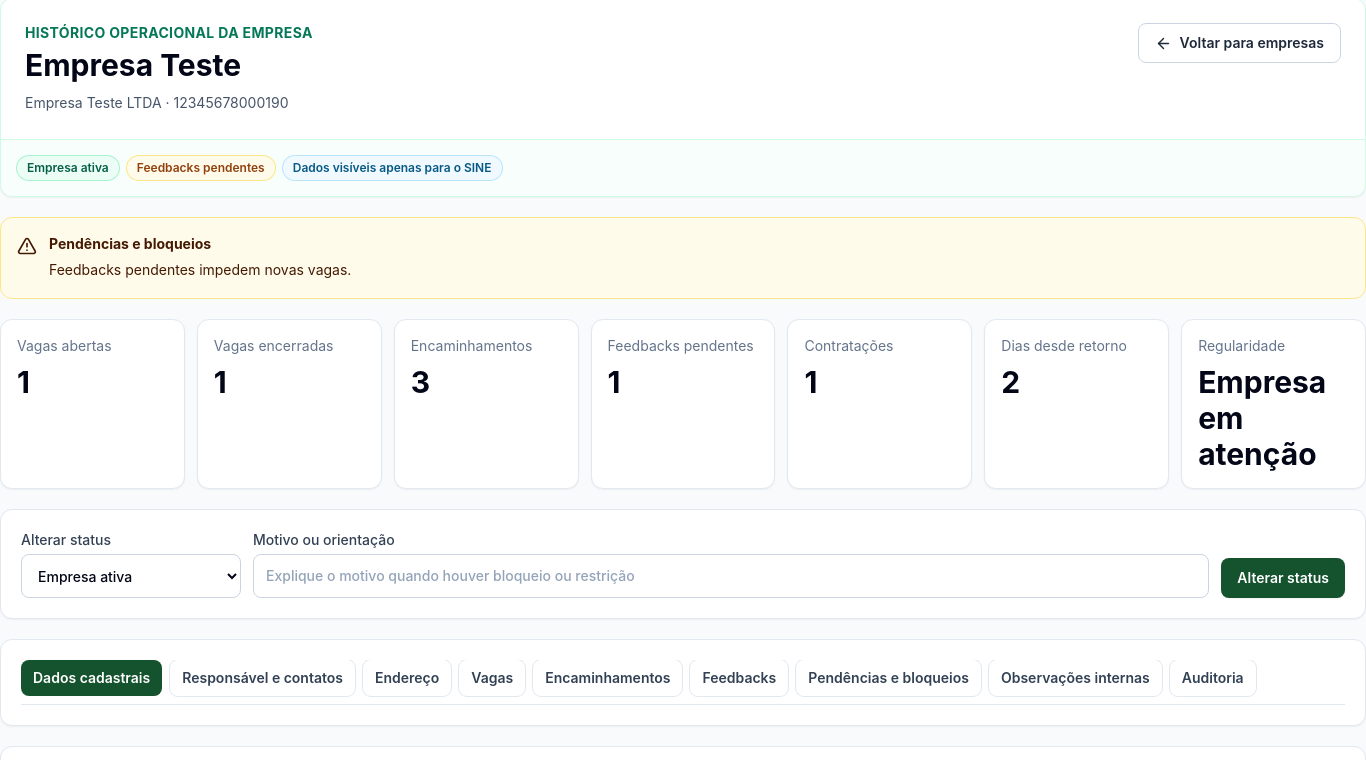
Test case: Módulo administrativo de empresas › detalhe mostra dados, vagas, feedbacks, observações internas e auditoria sem status técnico cru
This screenshot has width=1366, height=760.
Expected: the text "Empresa Teste LTDA · 12345678000190" is shown, left=25, top=91, right=313, bottom=115
Expected: the text "Feedbacks pendentes impedem novas vagas." is shown, left=49, top=258, right=351, bottom=282
Step 1. Click the tab "Responsável e contatos" → [263, 678], box left=170, top=660, right=355, bottom=696
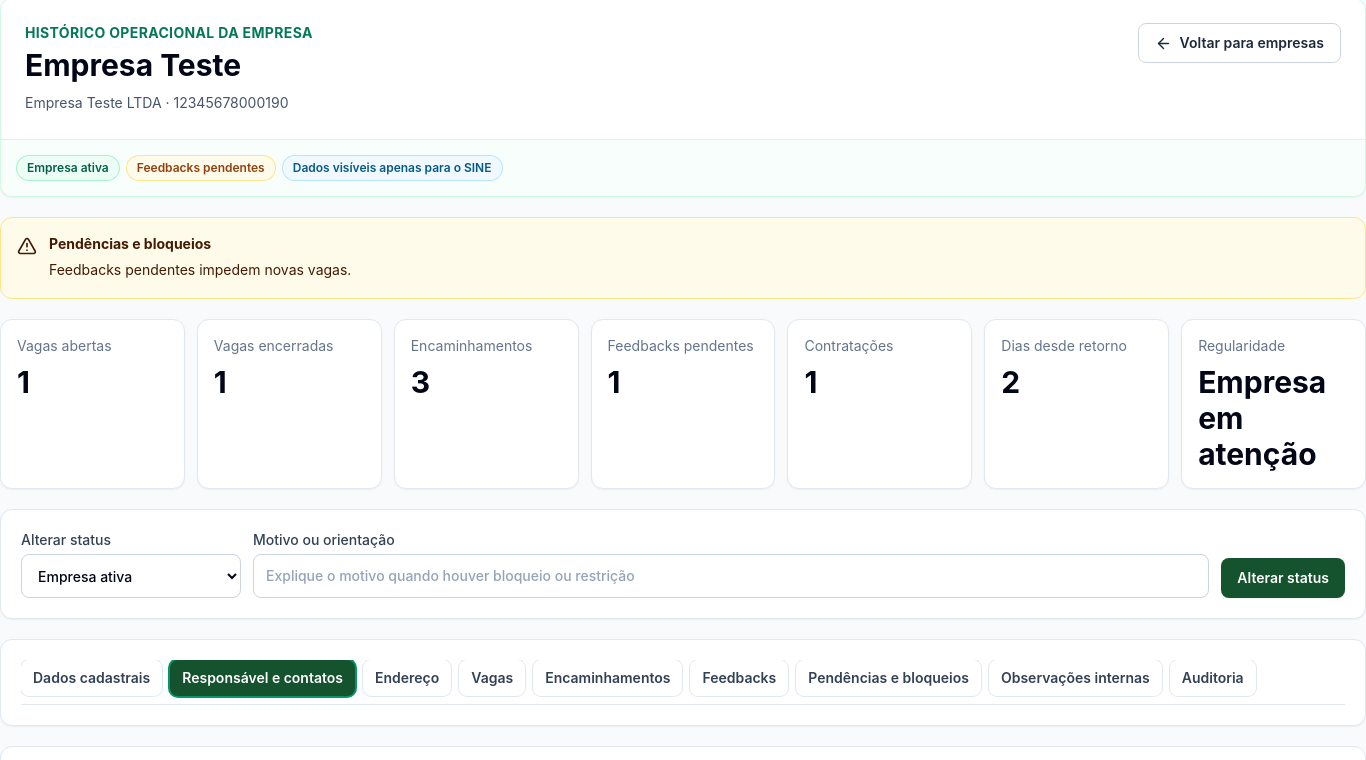
Step 2. Click the tab "Vagas" → [492, 678], box left=459, top=660, right=525, bottom=696
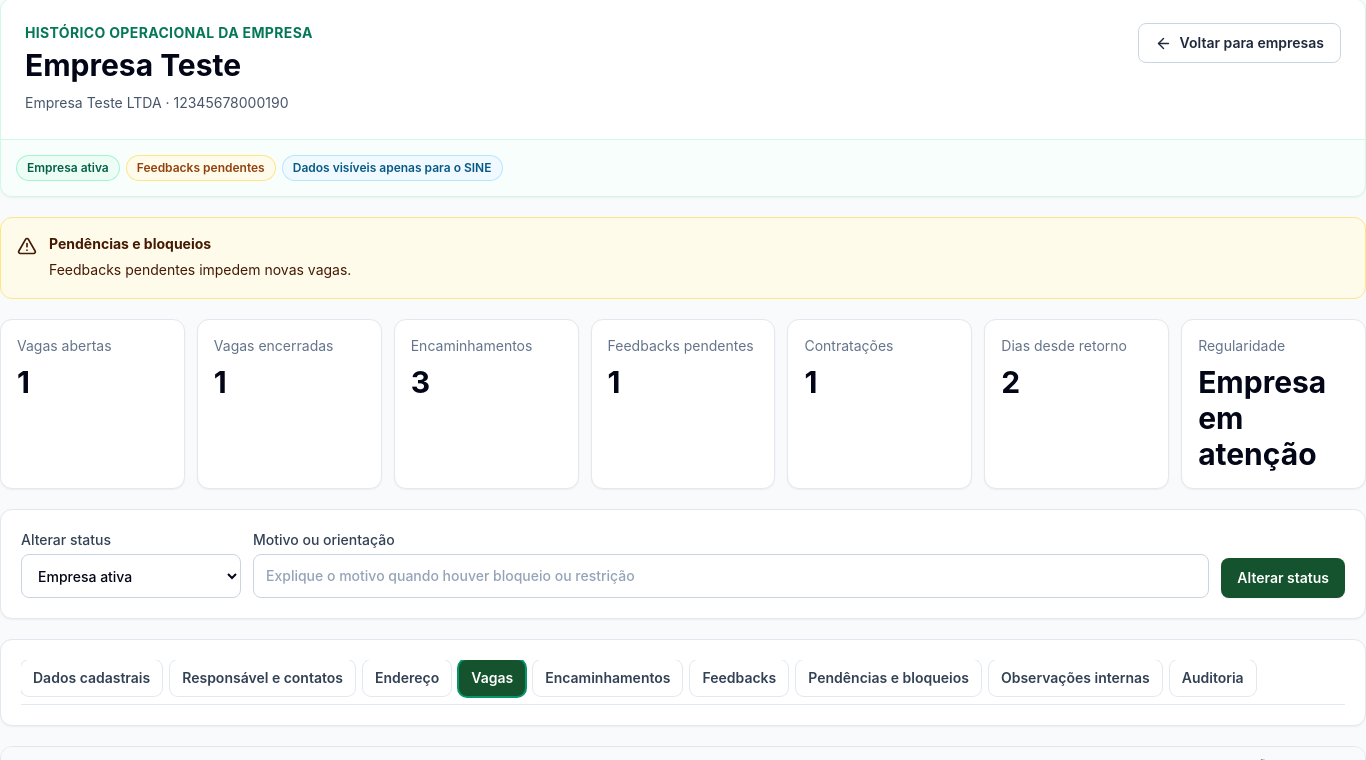
Step 3. Click the tab "Feedbacks" → [739, 678], box left=690, top=660, right=788, bottom=696
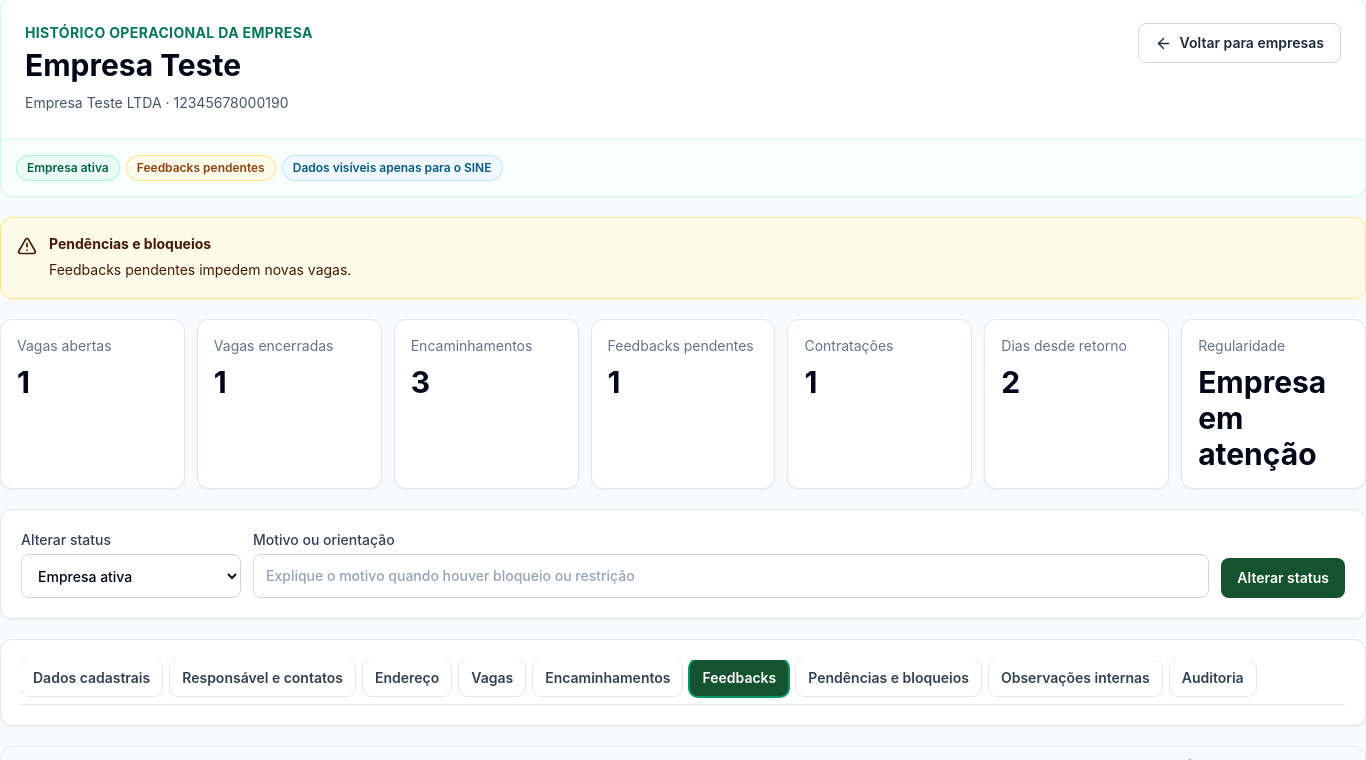
Step 4. Click the tab "Observações internas" → [1075, 678], box left=989, top=660, right=1162, bottom=696
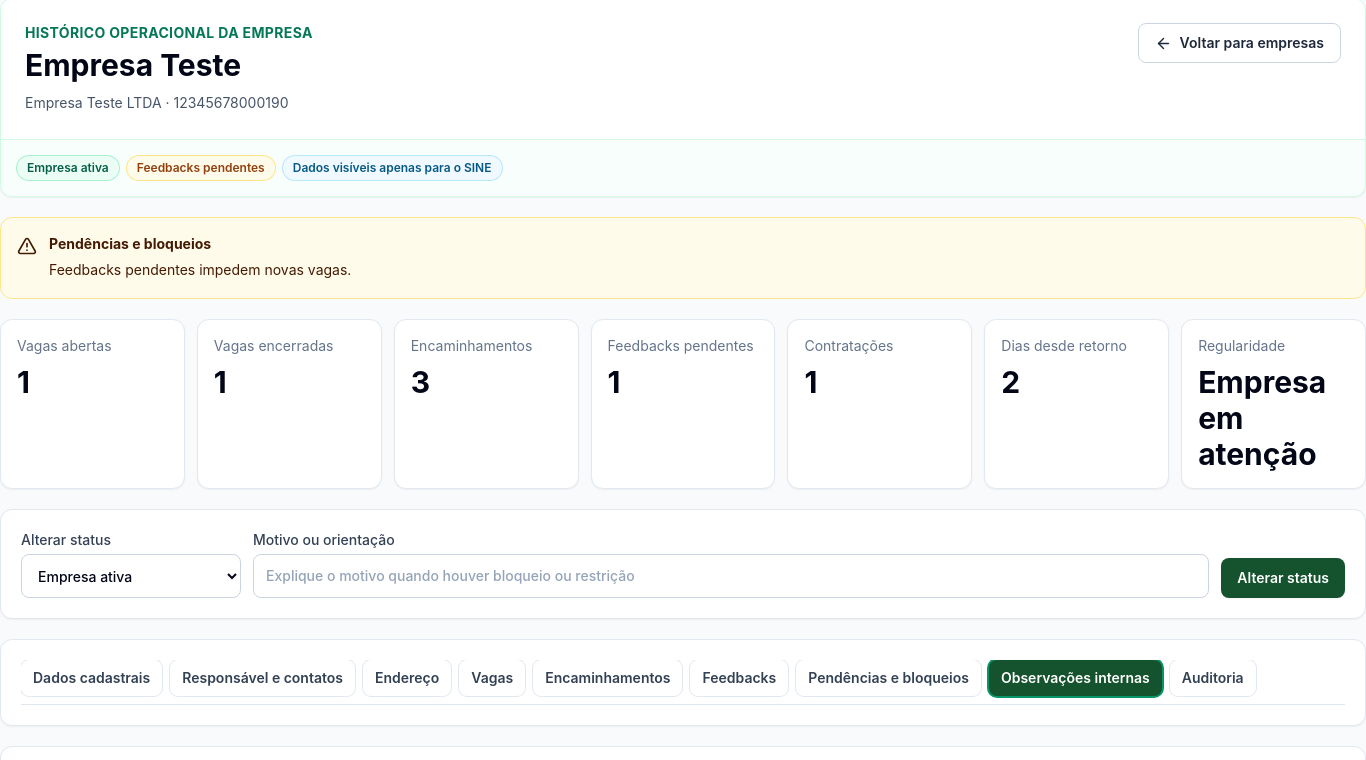
Step 5. Click the tab "Auditoria" → [1213, 678], box left=1170, top=660, right=1256, bottom=696
(page scrolled)
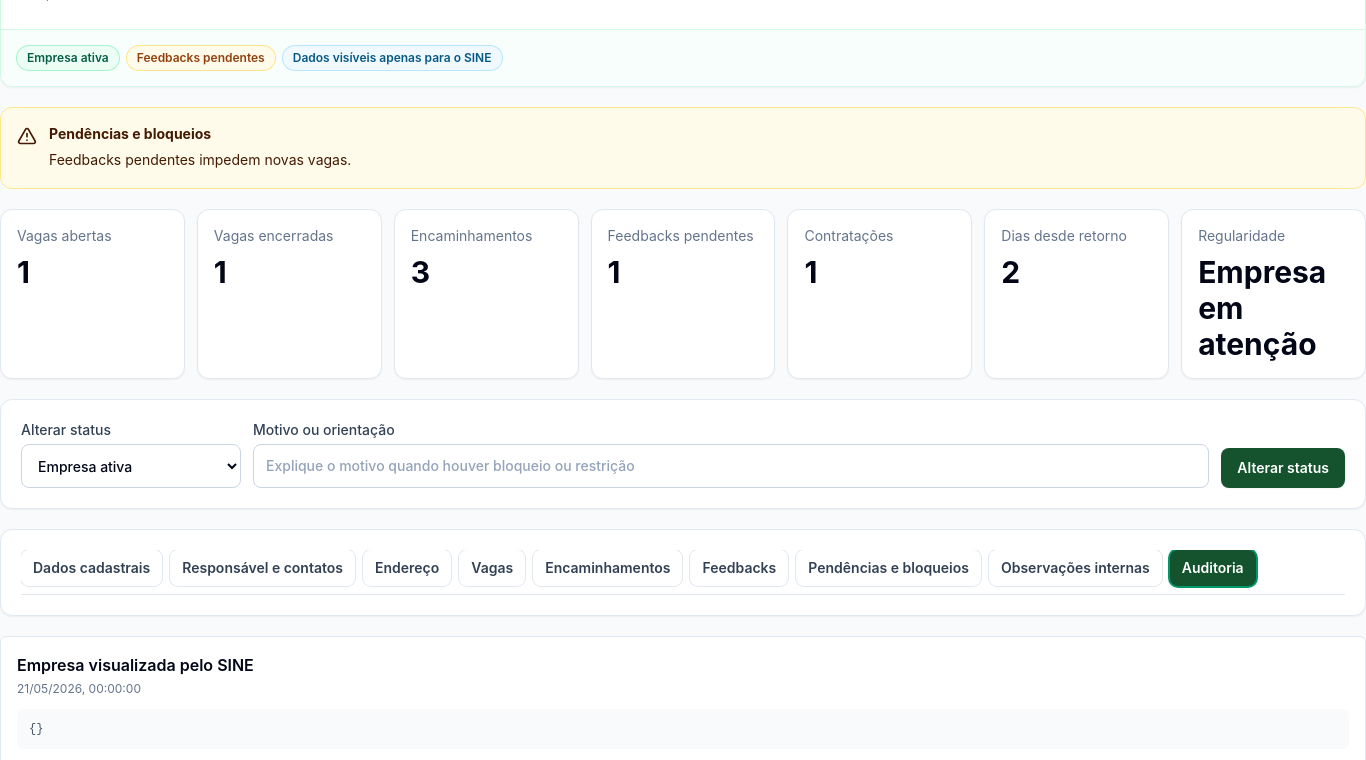
Now the text "Empresa visualizada pelo SINE" is shown, box left=17, top=655, right=254, bottom=675
